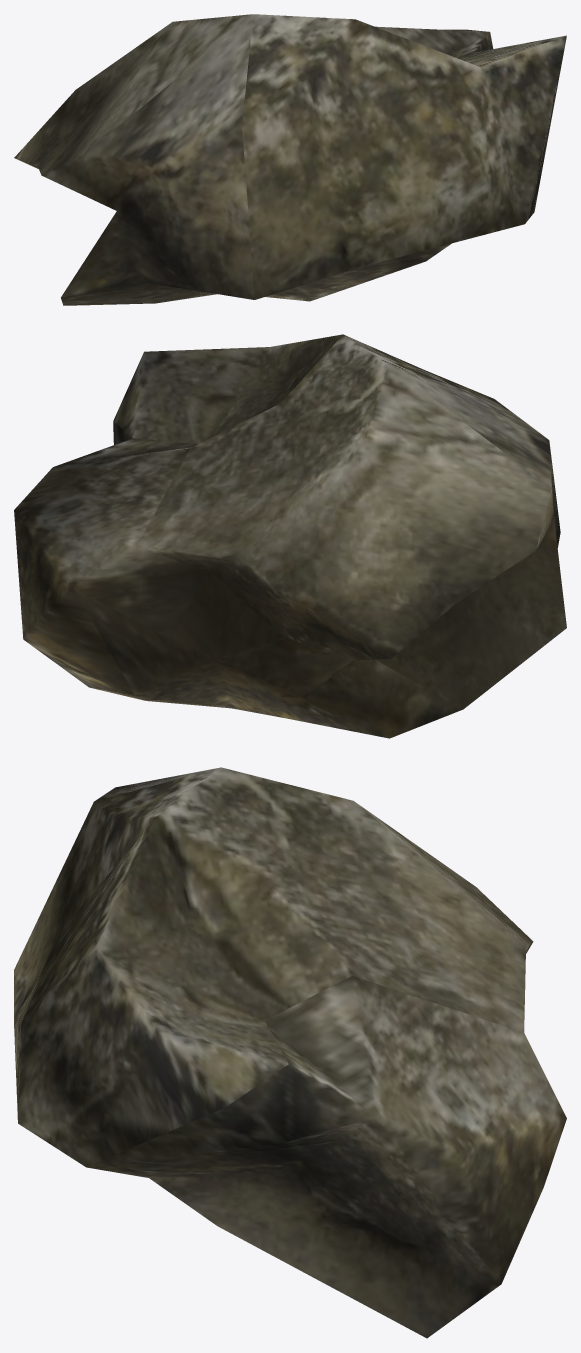
Rendered from rock_03_lod3.glb.
3 views of the same model, one above another, from view 1: azimuth 30°, elevation 25°; view 2: azimuth 150°, elevation 25°; view 3: azimuth 270°, elevation 25° (orthographic). The views are drawn at different scales.
Parts seen in each view (by area): view 1: Rock_03_LOD3; view 2: Rock_03_LOD3; view 3: Rock_03_LOD3.
Boxes of the visible parts, <box> form: Rock_03_LOD3: <box>14,14,566,305</box>; Rock_03_LOD3: <box>14,334,566,738</box>; Rock_03_LOD3: <box>14,767,566,1338</box>.
Size of the model in its own units: 1.93 by 1.31 by 1.49.
1 material, 1 textured.
